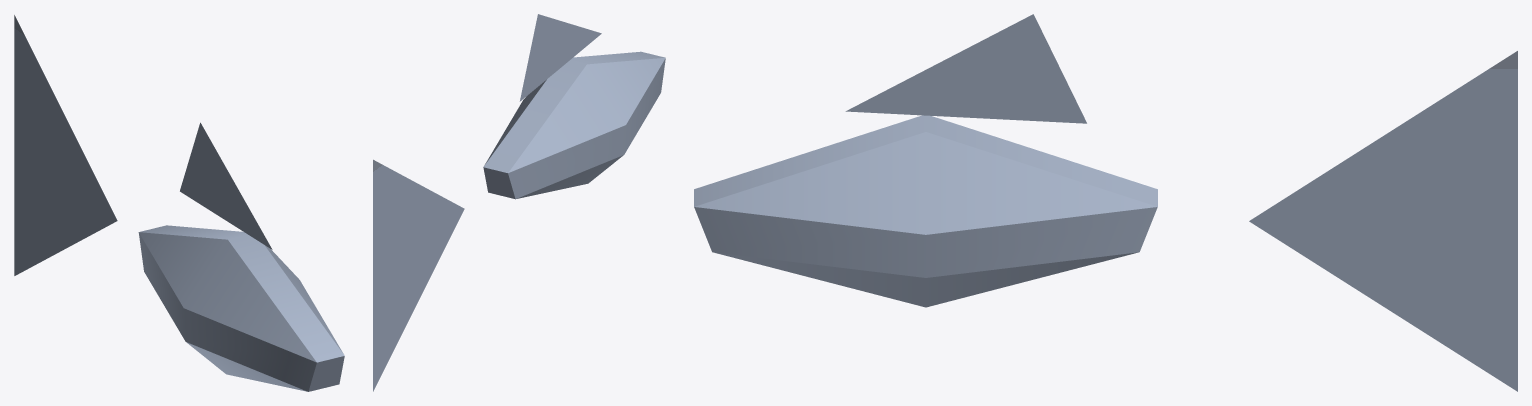
The model's file is fish_1.glb.
The picture shows the model from 3 angles, left to right: view 1: azimuth 30°, elevation 25°; view 2: azimuth 150°, elevation 25°; view 3: azimuth 270°, elevation 25°; orthographic projection. The views are drawn at different scales.
Visible parts, largest first — view 1: fish_2; view 2: fish_2; view 3: fish_2.
Boxes of the visible parts, x1,y1,x2,y2 form: fish_2: [14, 15, 344, 391]; fish_2: [373, 14, 665, 391]; fish_2: [694, 14, 1517, 391].
Bounding box in the file's own units: 0.0648 × 0.155 × 0.3062.
1 material, 1 textured.
